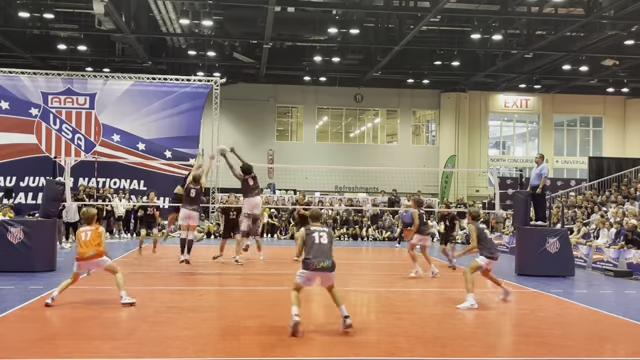attacco: (158, 152, 203, 248)
muro: (217, 145, 268, 267), (168, 148, 209, 265)
